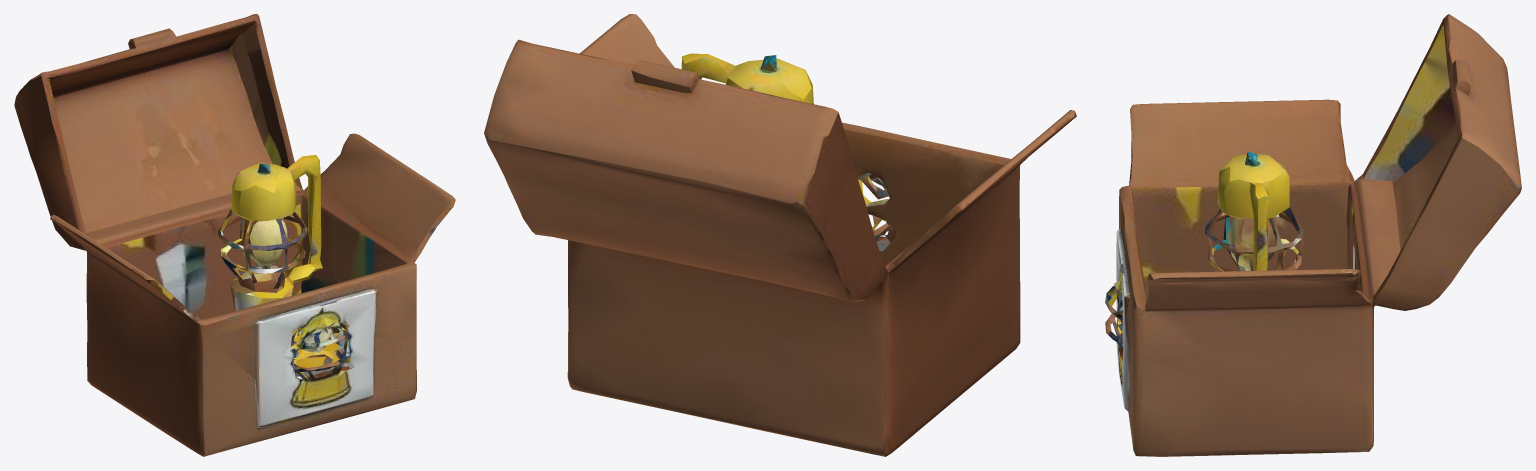
The model's file is lamp_kit.glb.
3 views of the same model, side by side, from view 1: azimuth 30°, elevation 25°; view 2: azimuth 150°, elevation 25°; view 3: azimuth 270°, elevation 25° (orthographic). The views are drawn at different scales.
Parts seen in each view (by area): view 1: lamp_kit; view 2: lamp_kit; view 3: lamp_kit.
Boxes of the visible parts, bbox=[...] form: lamp_kit: bbox=[14, 14, 455, 456]; lamp_kit: bbox=[484, 14, 1076, 456]; lamp_kit: bbox=[1105, 14, 1521, 456].
Size of the model in its own units: 1 by 0.8516 by 0.9943.
Materials: 1 (1 with a texture image).
